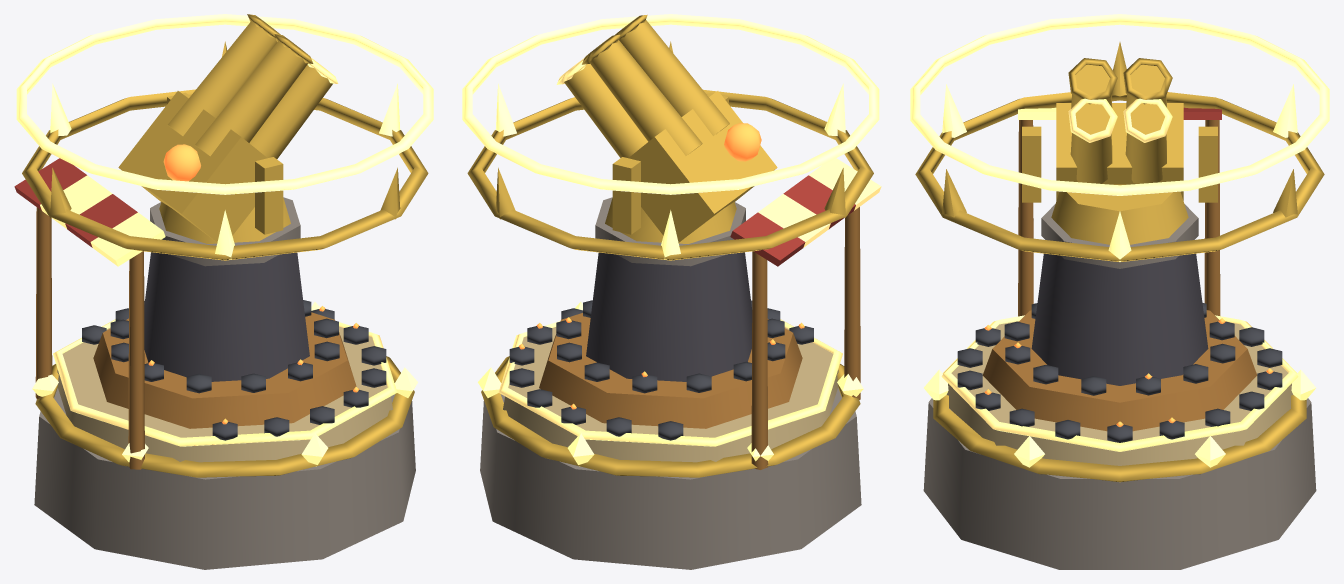
The model's file is tower_mine_carpet_ultimate.glb.
The picture shows the model from 3 angles, left to right: view 1: azimuth 30°, elevation 25°; view 2: azimuth 150°, elevation 25°; view 3: azimuth 270°, elevation 25°; orthographic projection.
Visible parts, largest first — view 1: base, launcher_drum, stall_tier_high, ult_halo, stall_tier_low, ult_crown_band, launcher_breech, ult_ring, launch_tube_2, launch_tube_3, stall_trim, awning_post_l (+14 smaller); view 2: base, launcher_drum, stall_tier_high, ult_halo, stall_tier_low, ult_crown_band, launcher_breech, ult_ring, launch_tube_3, launch_tube_2, stall_trim, awning_post_r (+14 smaller); view 3: base, launcher_drum, stall_tier_high, ult_halo, ult_crown_band, stall_tier_low, ult_ring, turret_yoke, stall_trim, launcher_breech, launch_tube_0, launch_tube_1 (+18 smaller).
Boxes of the visible parts, x1,y1,x2,y2 form: base: (34, 387, 415, 569); launcher_drum: (144, 252, 309, 381); stall_tier_high: (93, 312, 356, 428); ult_halo: (16, 14, 433, 194); stall_tier_low: (57, 326, 392, 462); ult_crown_band: (22, 89, 428, 260); launcher_breech: (118, 91, 267, 242); ult_ring: (35, 356, 414, 477); launch_tube_2: (195, 40, 307, 156); launch_tube_3: (168, 20, 277, 135); stall_trim: (53, 319, 397, 446); awning_post_l: (128, 251, 144, 469); base: (480, 387, 861, 569); launcher_drum: (586, 252, 752, 381); stall_tier_high: (539, 313, 802, 428); ult_halo: (462, 14, 879, 194); stall_tier_low: (503, 327, 838, 462); ult_crown_band: (467, 89, 873, 260); launcher_breech: (628, 91, 777, 242); ult_ring: (481, 356, 860, 477); launch_tube_3: (589, 40, 702, 155); launch_tube_2: (619, 20, 729, 135); stall_trim: (498, 319, 842, 446); awning_post_r: (751, 251, 768, 469); base: (923, 398, 1316, 569); launcher_drum: (1031, 253, 1208, 385); stall_tier_high: (982, 310, 1257, 431); ult_halo: (910, 14, 1329, 195); ult_crown_band: (915, 92, 1324, 262); stall_tier_low: (946, 321, 1293, 465); ult_ring: (933, 395, 1306, 482); turret_yoke: (1051, 184, 1188, 244); stall_trim: (941, 315, 1298, 451); launcher_breech: (1056, 103, 1183, 200); launch_tube_0: (1070, 103, 1112, 183); launch_tube_1: (1125, 103, 1166, 183).
Size of the model in its own units: 0.434 by 0.5095 by 0.4274.
